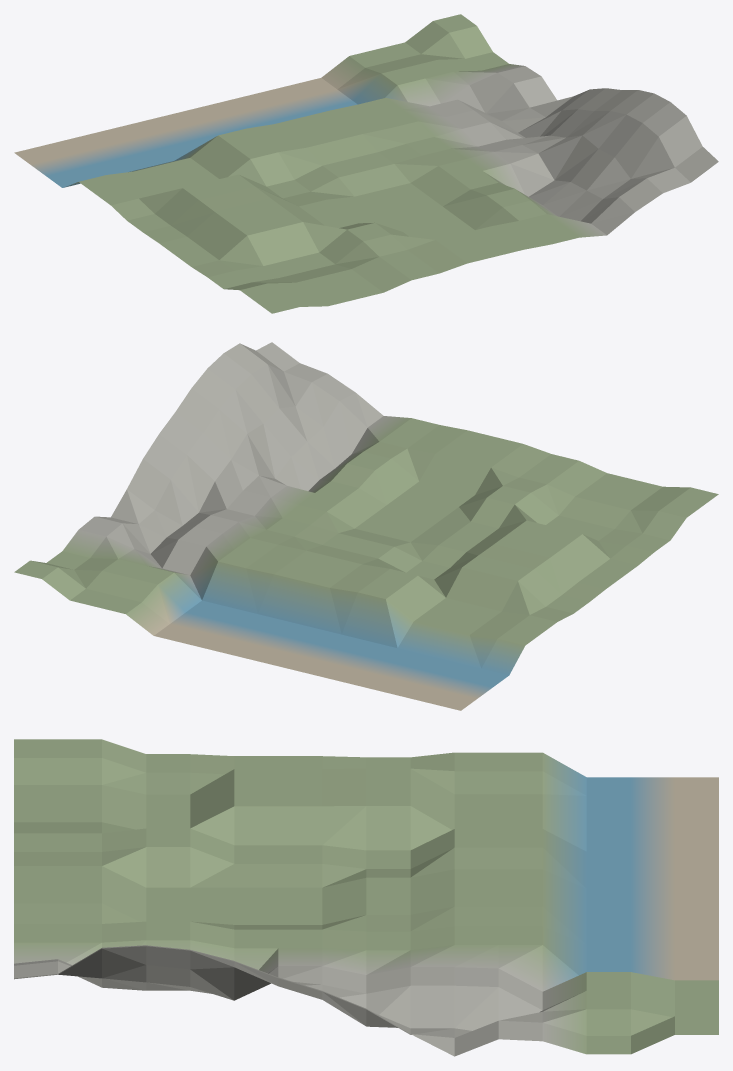
3 views of the same model, one above another, from view 1: azimuth 30°, elevation 25°; view 2: azimuth 150°, elevation 25°; view 3: azimuth 270°, elevation 25° (orthographic). The views are drawn at different scales.
Bounding box in the file's own units: 32 × 6.51 × 32.
